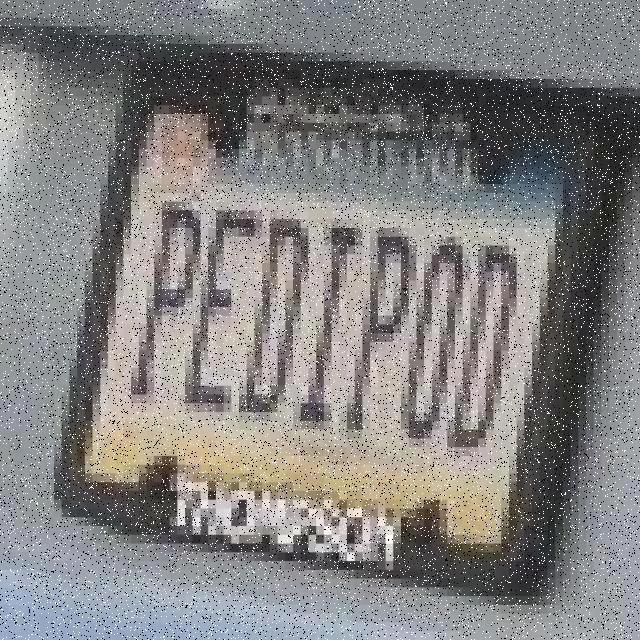licenseplate: (30, 1, 640, 615)
